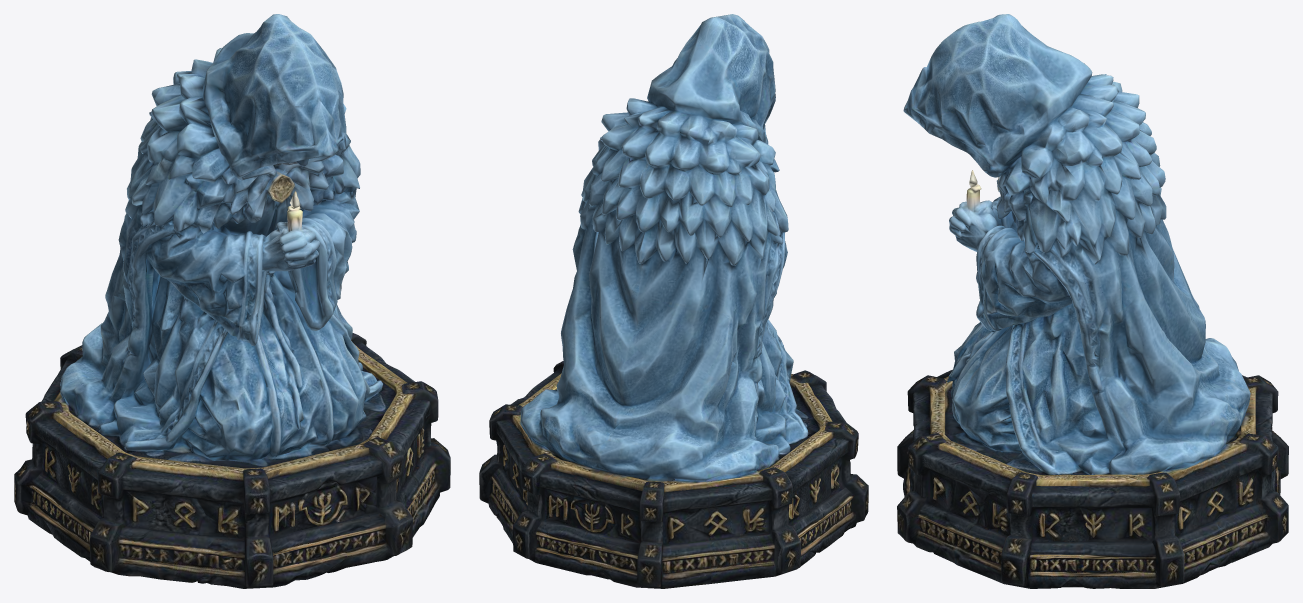
Rendered from acolito_branco.glb.
3 views of the same model, side by side, from view 1: azimuth 30°, elevation 25°; view 2: azimuth 150°, elevation 25°; view 3: azimuth 270°, elevation 25° (orthographic). The views are drawn at different scales.
Visible parts, largest first — view 1: tripo_node_3f1d30ae-7c5c-4434-ab31-8300ef45457a; view 2: tripo_node_3f1d30ae-7c5c-4434-ab31-8300ef45457a; view 3: tripo_node_3f1d30ae-7c5c-4434-ab31-8300ef45457a.
Boxes of the visible parts, x1,y1,x2,y2 form: tripo_node_3f1d30ae-7c5c-4434-ab31-8300ef45457a: (14,14,450,588); tripo_node_3f1d30ae-7c5c-4434-ab31-8300ef45457a: (479,14,868,588); tripo_node_3f1d30ae-7c5c-4434-ab31-8300ef45457a: (897,14,1288,588).
Bounding box in the file's own units: 0.7028 × 0.9803 × 0.7019.
1 material, 1 textured.
